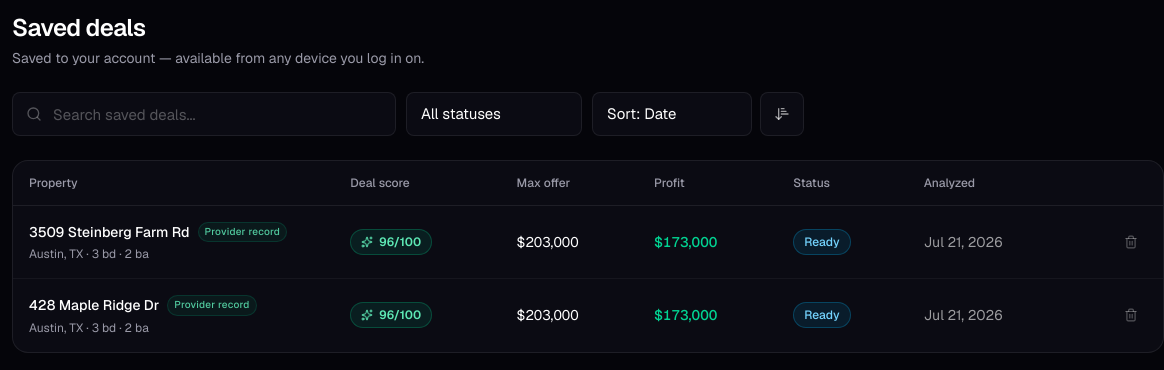
Test: DealsListPage — search, filter, sort › filters the visible deals by search query
Expected: the link "3509 Steinberg Farm Rd" is shown, [29, 222, 190, 242]
Expected: the link "428 Maple Ridge Dr" is shown, [29, 295, 159, 315]
In the search field labelled "Search saved deals": (204, 114) [12, 92, 396, 136], type "Maple"
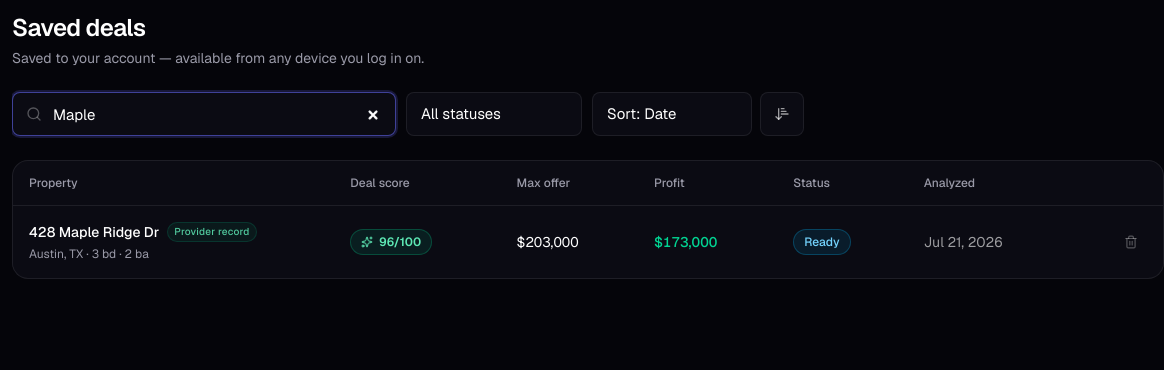
Expected: the link "428 Maple Ridge Dr" is shown, [29, 222, 159, 242]
Now the link "3509 Steinberg Farm Rd" is gone
